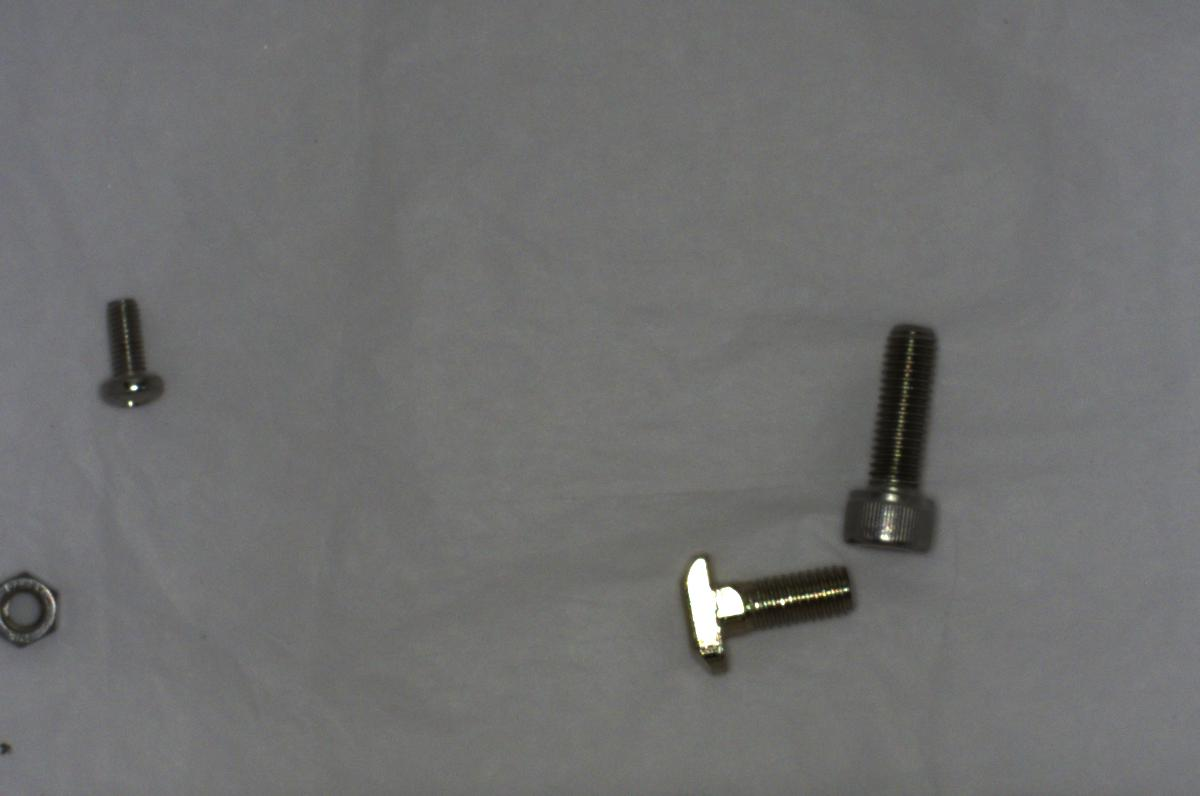Hexagon nut: (1, 558, 70, 659)
Hexagon screw: (837, 323, 959, 566)
Round head screw: (94, 292, 170, 414)
T-shaped screw: (679, 543, 877, 673)
